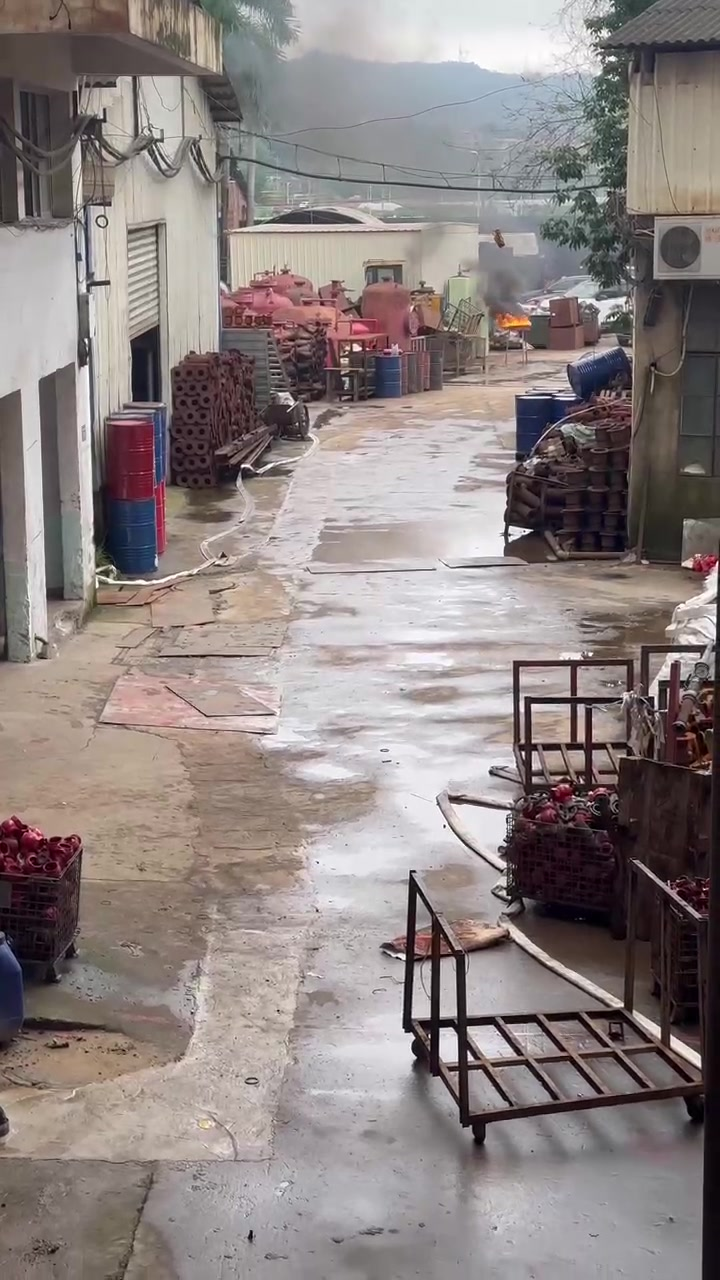fire: (496, 312, 531, 327)
